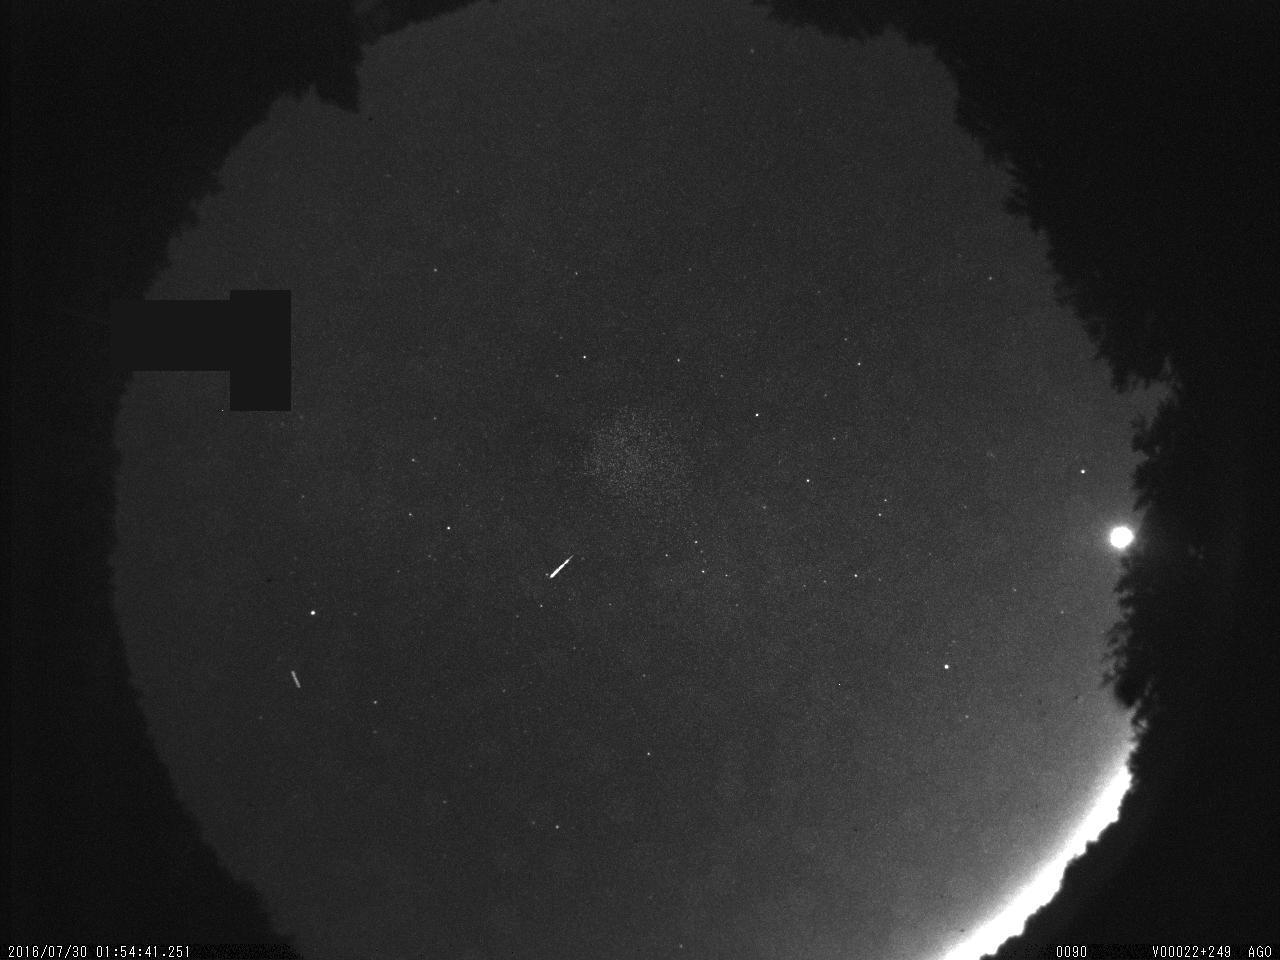meteor: (539, 544, 581, 591)
